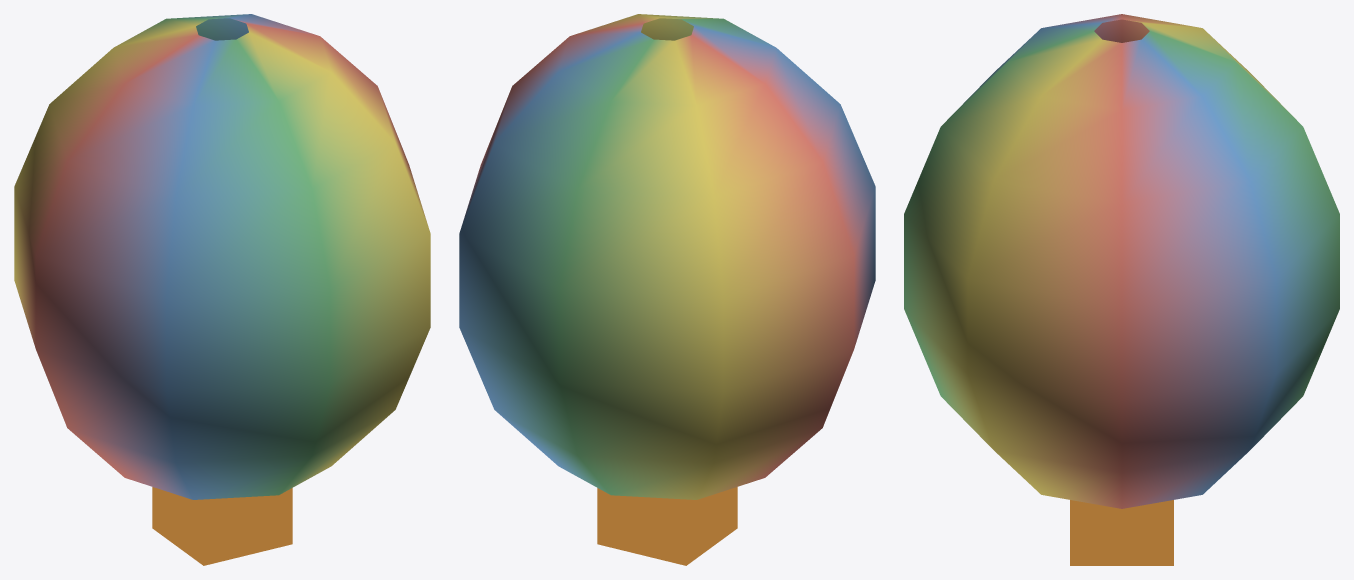
File: transport_balloon.glb
3 renders of one model, left to right at view 1: azimuth 30°, elevation 25°; view 2: azimuth 150°, elevation 25°; view 3: azimuth 270°, elevation 25°, orthographic.
Parts seen in each view (by area): view 1: envelope, basket_floor; view 2: envelope, basket_floor; view 3: envelope, basket_floor.
Part boxes in pixels (left/top/right/bottom): envelope: left=14, top=14, right=430, bottom=499; basket_floor: left=152, top=487, right=292, bottom=565; envelope: left=459, top=14, right=875, bottom=499; basket_floor: left=597, top=487, right=737, bottom=565; envelope: left=904, top=14, right=1339, bottom=508; basket_floor: left=1070, top=500, right=1173, bottom=565.
Bounding box in the file's own units: 5.87 × 7.62 × 5.87.
